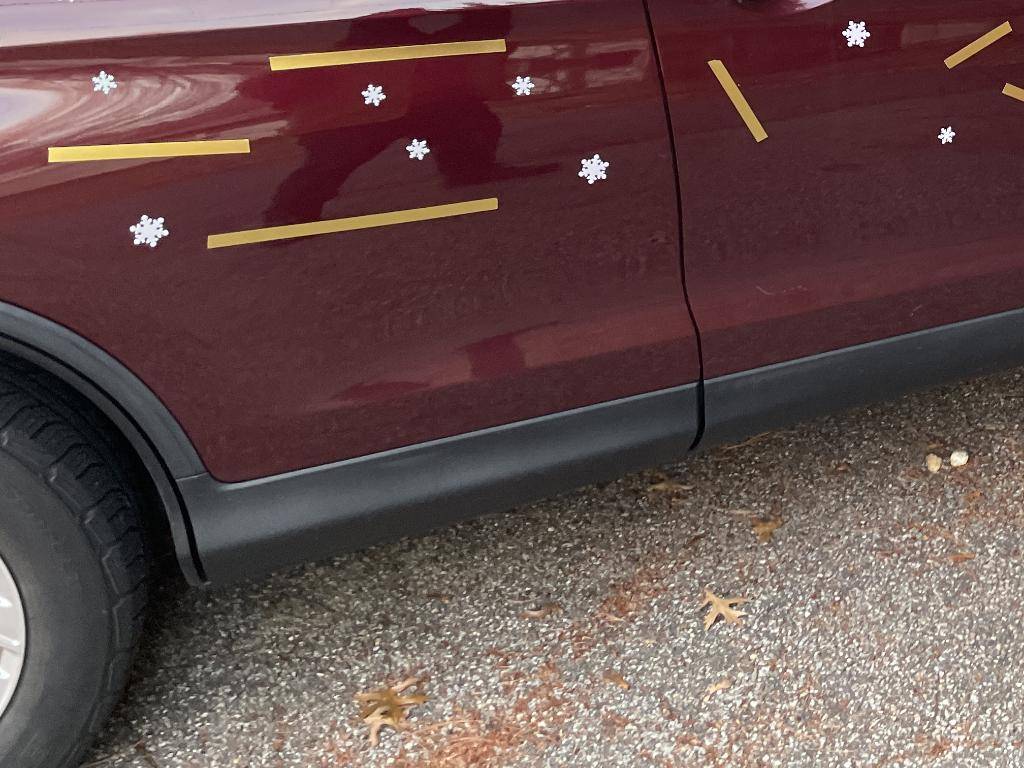dent: (126, 214, 174, 250), (576, 152, 614, 188), (842, 13, 872, 50), (403, 135, 433, 163), (510, 73, 538, 103), (90, 69, 120, 95), (359, 82, 389, 108), (935, 122, 961, 148), (53, 0, 84, 11)
scratch: (204, 196, 500, 252), (266, 38, 516, 72), (702, 55, 772, 145), (48, 136, 254, 166), (940, 15, 1014, 74), (999, 81, 1024, 141)
